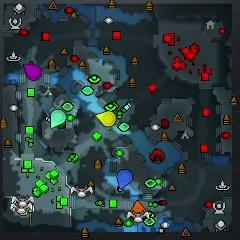p1: (116, 169, 133, 188)
p2: (50, 109, 65, 128)
p3: (23, 63, 43, 81)
p4: (95, 110, 116, 126)
p5: (132, 200, 146, 214)
